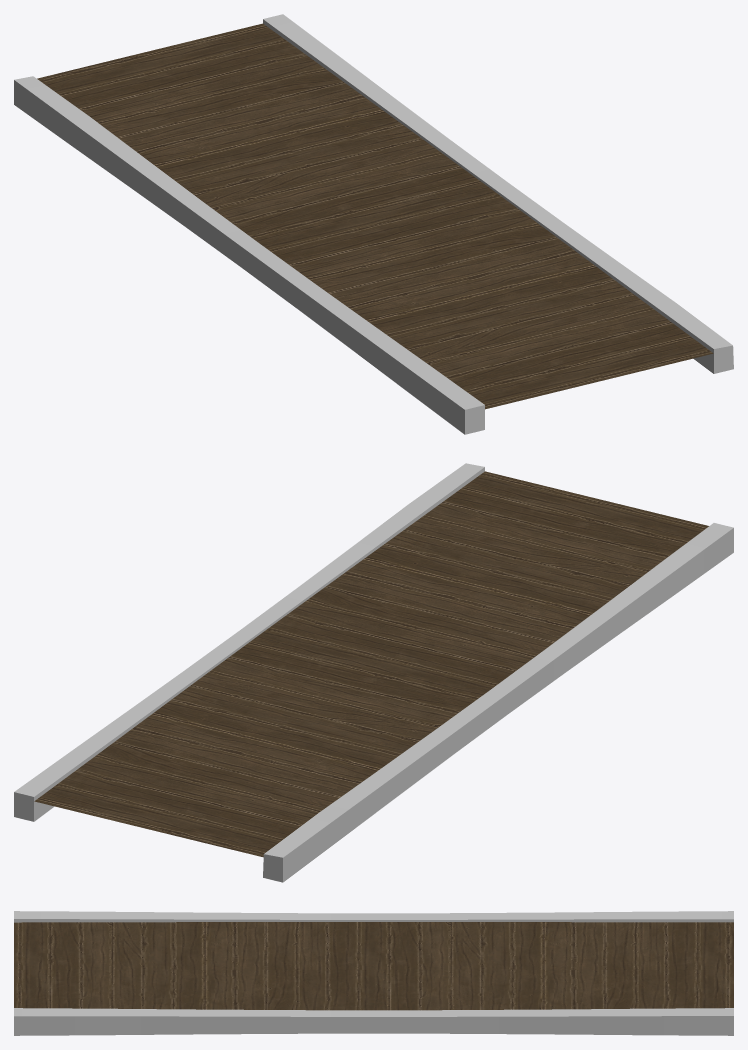
The model's file is SM_FloorPiece_00.fbx.
The picture shows the model from 3 angles, top to bottom: view 1: azimuth 30°, elevation 25°; view 2: azimuth 150°, elevation 25°; view 3: azimuth 270°, elevation 25°; orthographic projection. The views are drawn at different scales.
Parts seen in each view (by area): view 1: SM_FloorPiece_01; view 2: SM_FloorPiece_01; view 3: SM_FloorPiece_01.
Part boxes in pixels (x1=…): SM_FloorPiece_01: x1=14, y1=14, x2=733, y2=434; SM_FloorPiece_01: x1=14, y1=463, x2=733, y2=882; SM_FloorPiece_01: x1=14, y1=911, x2=733, y2=1035.
Bounding box in the file's own units: 241 × 21.37 × 700.
